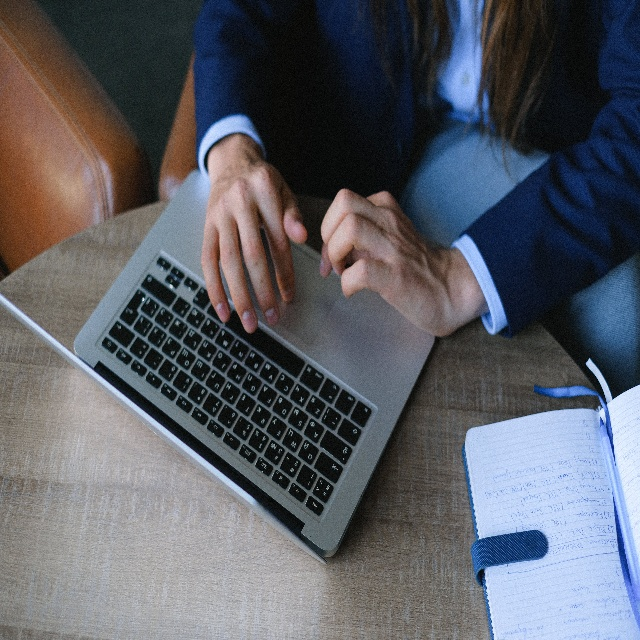Sin_guantes: (199, 156, 310, 337), (318, 183, 434, 332)
